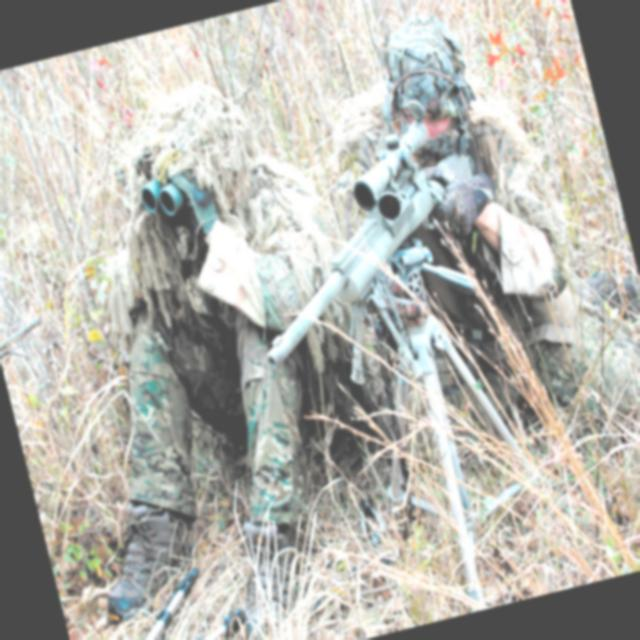rifle: (211, 97, 518, 390)
